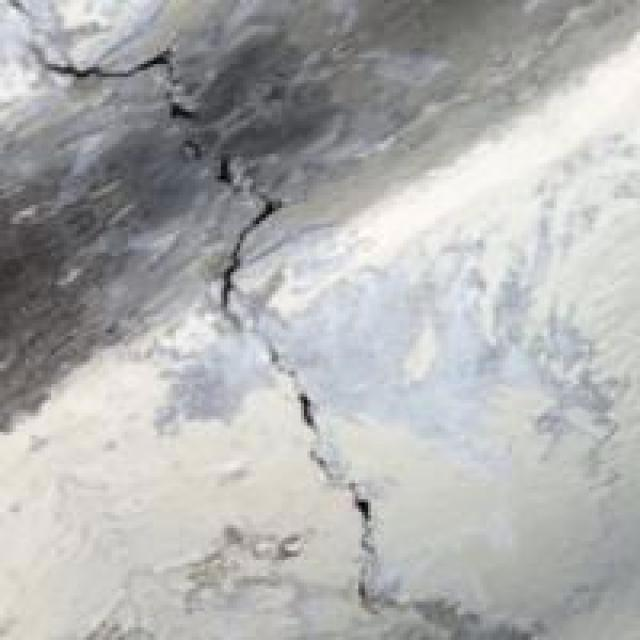crack: (44, 24, 482, 592)
